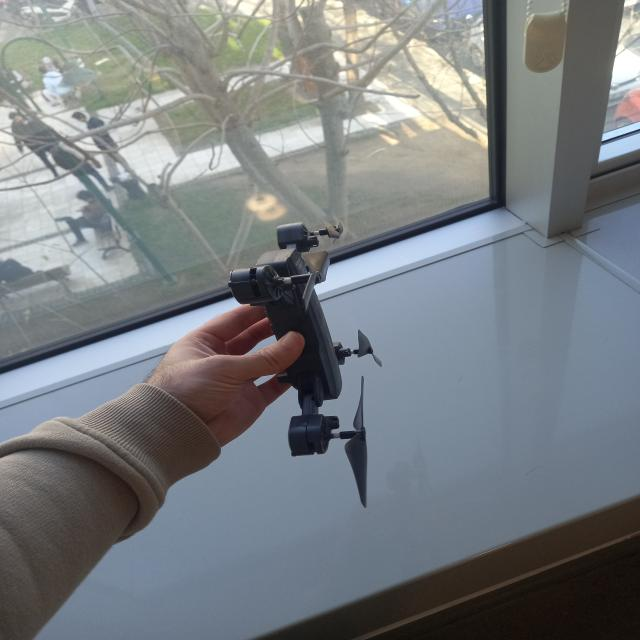drones: (206, 214, 387, 515)
